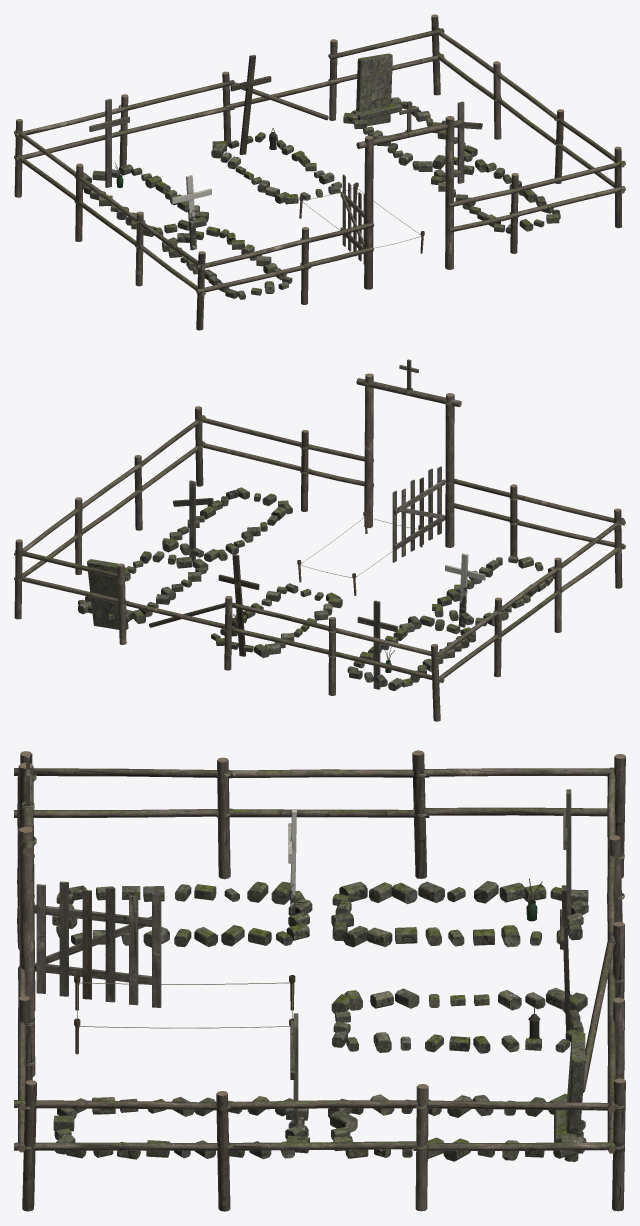
Rendered from graves.glb.
3 views of the same model, one above another, from view 1: azimuth 30°, elevation 25°; view 2: azimuth 150°, elevation 25°; view 3: azimuth 270°, elevation 25° (orthographic). The views are drawn at different scales.
Visible parts, largest first — view 1: graves; view 2: graves; view 3: graves.
Boxes of the visible parts, <box> form: graves: <box>14,14,625,330</box>; graves: <box>14,359,625,721</box>; graves: <box>14,750,625,1211</box>.
Bounding box in the file's own units: 6.54 × 2.59 × 4.98.
1 material, 1 textured.
